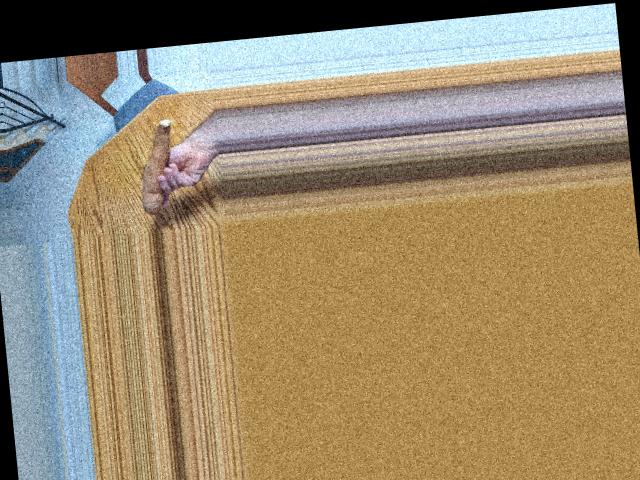sweet_potato: (129, 116, 181, 211)
